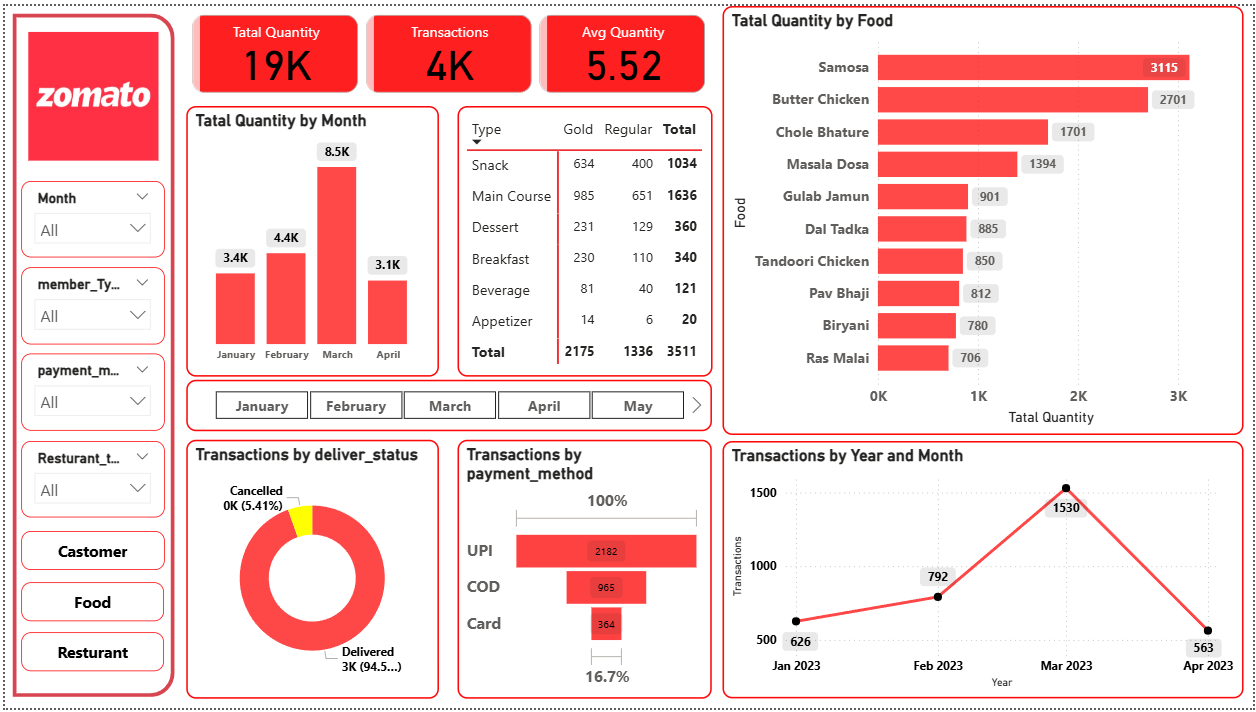

Layout of this report page (visuals, bound fields, positions):
{"tool":"powerbi","page":{"name":"Duplicate of Page 1","canvas":[1280,720],"ordinal":1},"visuals":[{"type":"cardVisual","fields":{"Data":["Sales Data.Tatal Quantity","Sales Data.Transactions","Sales Data.Avg Quantity"]},"box":[187.5,8.8,538.8,92.5],"z":0},{"type":"columnChart","fields":{"Category":["Sales Data.orderDate.Variation.Date Hierarchy.Month"],"Y":["Sales Data.Tatal Quantity"]},"box":[185.9,102.7,259.2,277.6],"z":1000},{"type":"pivotTable","fields":{"Rows":["Food_Details.Type"],"Columns":["Customer Details.member_Type"],"Values":["Sales Data.Transactions"]},"box":[464.7,102.7,261.7,277.6],"z":2000},{"type":"donutChart","fields":{"Category":["Sales Data.deliver_status"],"Y":["Sales Data.Transactions"]},"box":[185.9,445.1,259.2,265.4],"z":3000},{"type":"funnel","fields":{"Category":["Sales Data.payment_method"],"Y":["Sales Data.Transactions"]},"box":[464.7,445.1,260.5,265.4],"z":4000},{"type":"clusteredBarChart","fields":{"Category":["Food_Details.Food"],"Y":["Sales Data.Tatal Quantity"]},"box":[735.7,0,534.3,440],"z":5000},{"type":"lineChart","fields":{"Y":["Sales Data.Transactions"],"Category":["Sales Data.Month & Year"]},"box":[735.7,445.7,534.3,264.3],"z":6000},{"type":"shape","box":[8.1,8.1,166.3,701.2],"z":7000},{"type":"slicer","fields":{"Values":["Sales Data.orderDate.Variation.Date Hierarchy.Month"]},"box":[185.9,384,539.3,52.6],"z":8000},{"type":"slicer","fields":{"Values":["Sales Data.orderDate.Variation.Date Hierarchy.Month"]},"box":[16.5,179.8,146.8,78.2],"z":9000},{"type":"slicer","fields":{"Values":["Customer Details.member_Type"]},"box":[16.5,267.6,146.8,79.6],"z":10000},{"type":"slicer","fields":{"Values":["Sales Data.payment_method"]},"box":[16.5,356.8,146.8,79.6],"z":11000},{"type":"slicer","fields":{"Values":["Resturant_Details.Resturant_type"]},"box":[16.5,446,146.8,78.2],"z":12000},{"type":"image","box":[17.1,22,148,141.8],"z":13000},{"type":"shape","title":"Castomer","box":[16.5,537.9,146.8,39.8],"z":14000},{"type":"shape","title":"Castomer","box":[16.7,590.7,146.7,40],"z":15000},{"type":"shape","title":"Castomer","box":[16.7,642.7,146.7,40],"z":16000}]}

Visuals, with their boxes in screenshot pixels (x1, y1, x2, y2), scaled from the page's 1280x720 canvas onto the 1256x712 screenshot:
cardVisual - Sales Data.Tatal Quantity x Sales Data.Transactions: rect(184, 9, 713, 100)
columnChart - Sales Data.orderDate.Variation.Date Hierarchy.Month x Sales Data.Tatal Quantity: rect(182, 102, 437, 376)
pivotTable - Food_Details.Type x Customer Details.member_Type: rect(456, 102, 713, 376)
donutChart - Sales Data.deliver_status x Sales Data.Transactions: rect(182, 440, 437, 703)
funnel - Sales Data.payment_method x Sales Data.Transactions: rect(456, 440, 712, 703)
clusteredBarChart - Food_Details.Food x Sales Data.Tatal Quantity: rect(722, 0, 1246, 435)
lineChart - Sales Data.Transactions x Sales Data.Month & Year: rect(722, 441, 1246, 702)
shape: rect(8, 8, 171, 701)
slicer - Sales Data.orderDate.Variation.Date Hierarchy.Month: rect(182, 380, 712, 432)
slicer - Sales Data.orderDate.Variation.Date Hierarchy.Month: rect(16, 178, 160, 255)
slicer - Customer Details.member_Type: rect(16, 265, 160, 343)
slicer - Sales Data.payment_method: rect(16, 353, 160, 432)
slicer - Resturant_Details.Resturant_type: rect(16, 441, 160, 518)
image: rect(17, 22, 162, 162)
"Castomer" shape: rect(16, 532, 160, 571)
"Castomer" shape: rect(16, 584, 160, 624)
"Castomer" shape: rect(16, 636, 160, 675)
